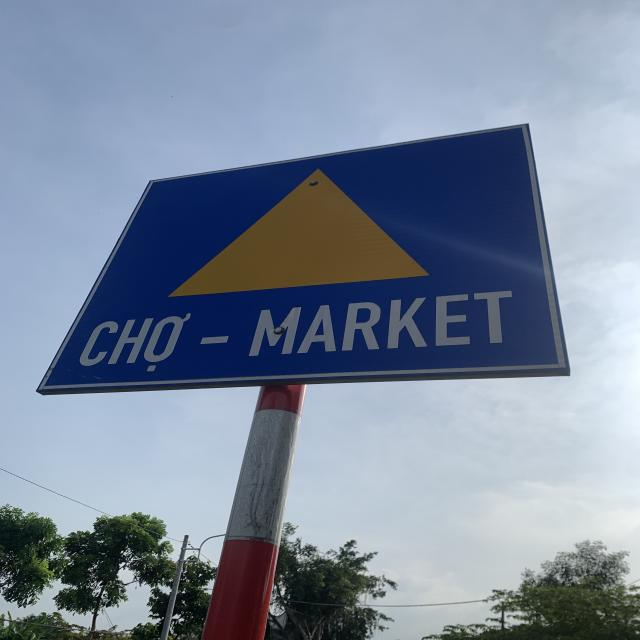Cho_Quay_Xe: (40, 124, 568, 390)
